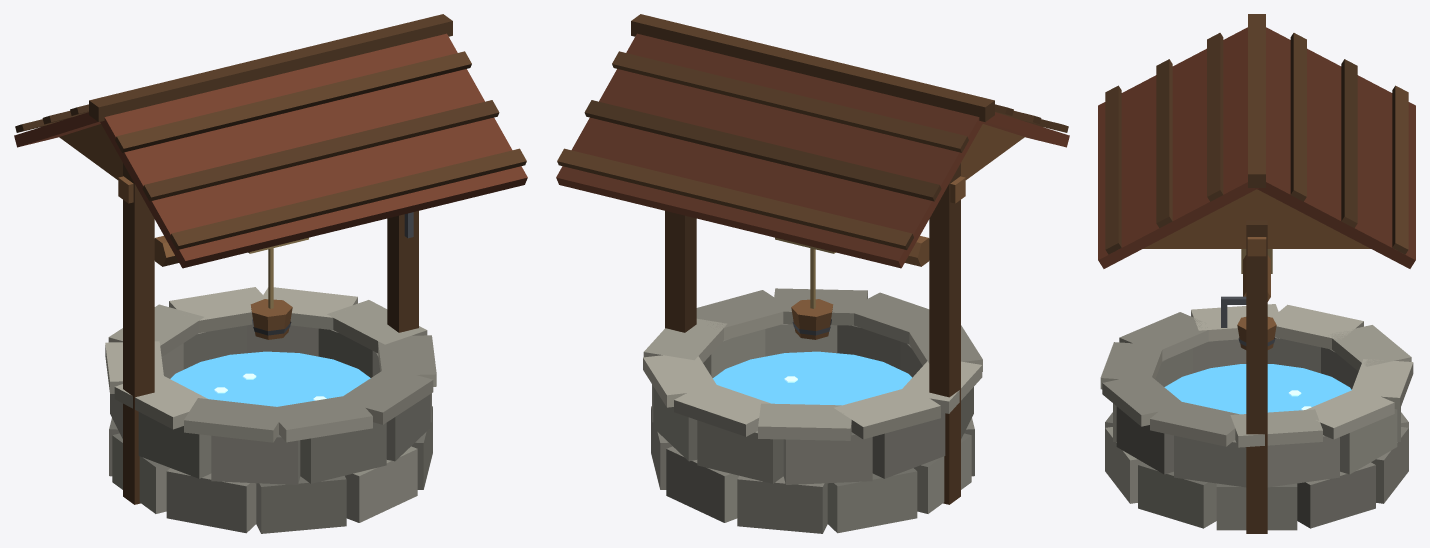
File: wishing_well.glb
3 views of the same model, side by side, from view 1: azimuth 30°, elevation 25°; view 2: azimuth 150°, elevation 25°; view 3: azimuth 270°, elevation 25° (orthographic). The views are drawn at different scales.
Visible parts, largest first — view 1: wishing_well; view 2: wishing_well; view 3: wishing_well.
Boxes of the visible parts, x1,y1,x2,y2 form: wishing_well: (14,14,527,533); wishing_well: (556,14,1069,533); wishing_well: (1098,14,1415,533).
Bounding box in the file's own units: 3 × 3.28 × 2.51.
